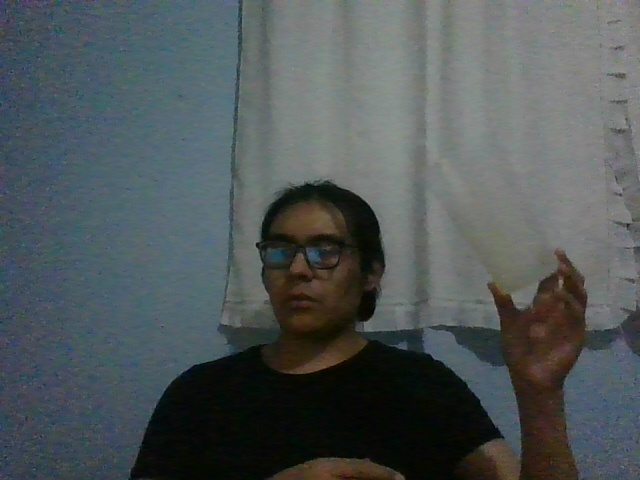vaso: (419, 148, 559, 295)
